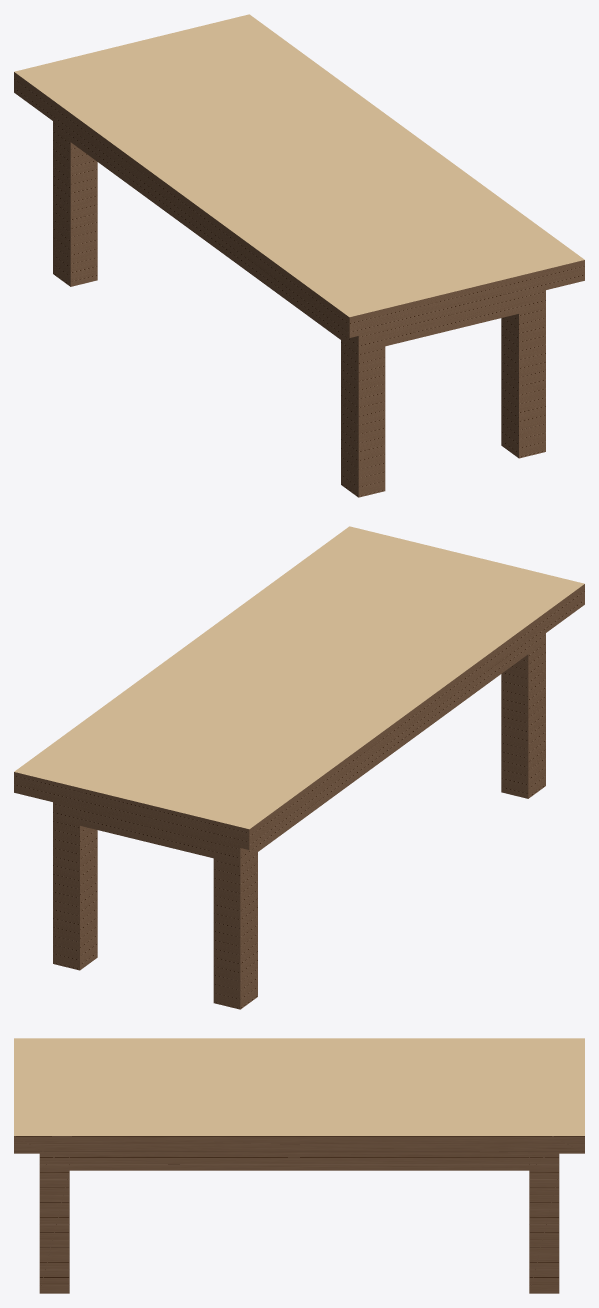
The model's file is Meja makan.fbx.
The picture shows the model from 3 angles, top to bottom: view 1: azimuth 30°, elevation 25°; view 2: azimuth 150°, elevation 25°; view 3: azimuth 270°, elevation 25°; orthographic projection. The views are drawn at different scales.
Visible parts, largest first — view 1: Meja makan; view 2: Meja makan; view 3: Meja makan.
Part boxes in pixels (bbox=[...]): Meja makan: bbox=[14, 14, 584, 497]; Meja makan: bbox=[14, 526, 584, 1009]; Meja makan: bbox=[14, 1038, 584, 1293].
Bounding box in the file's own units: 359 × 287 × 885.
